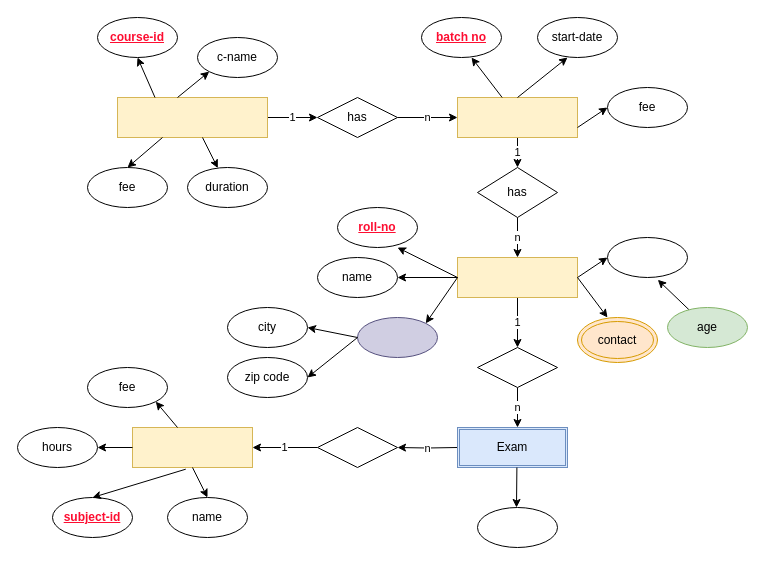
This 765x565 diagram has some shape labels left out. Each missing label, with the centre of its shape:
"address" belongs at point (397, 337).
"Batch" belongs at point (517, 117).
"belong to" belongs at point (357, 447).
"Course" belongs at point (192, 117).
"dob" belongs at point (647, 257).
"mark" belongs at point (517, 527).
"Student" belongs at point (517, 277).
"Subject" belongs at point (192, 447).
"take" belongs at point (517, 367).
